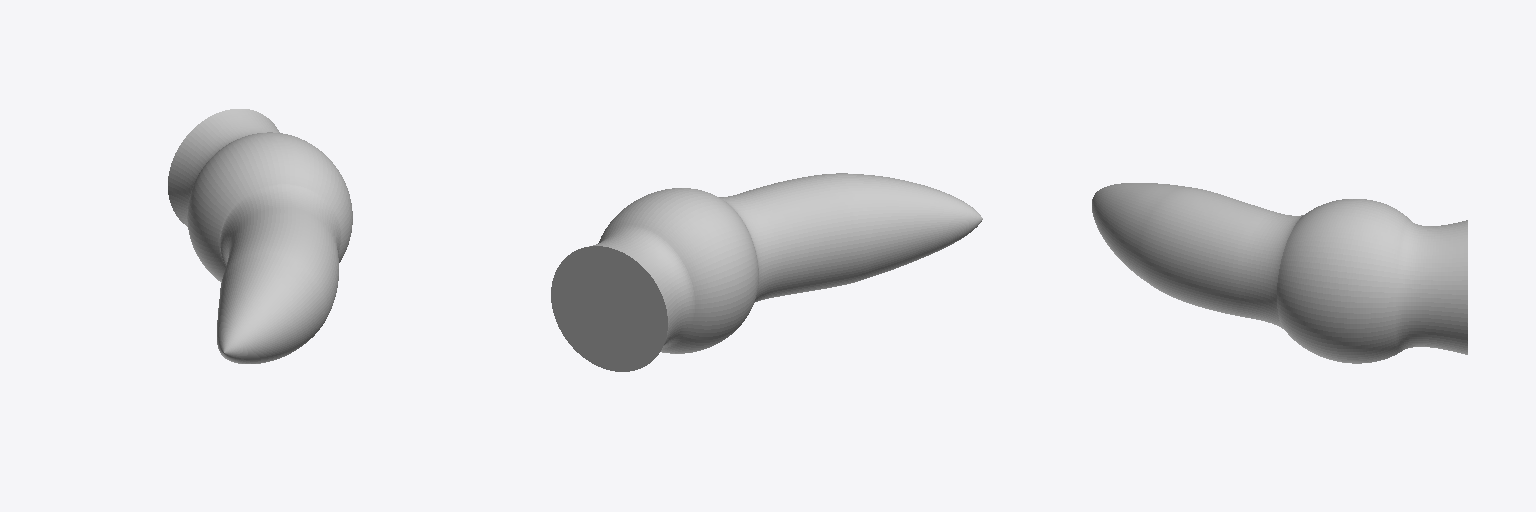
File: my_extrusion (1).obj
3 renders of one model, left to right at view 1: azimuth 30°, elevation 25°; view 2: azimuth 150°, elevation 25°; view 3: azimuth 270°, elevation 25°, orthographic.
Parts seen in each view (by area): view 1: mesh[0]; view 2: mesh[0]; view 3: mesh[0].
Part boxes in pixels (bbox=[...]): mesh[0]: bbox=[168, 109, 352, 363]; mesh[0]: bbox=[551, 173, 982, 371]; mesh[0]: bbox=[1092, 183, 1467, 363].
Bounding box in the file's own units: 446 × 258 × 589.